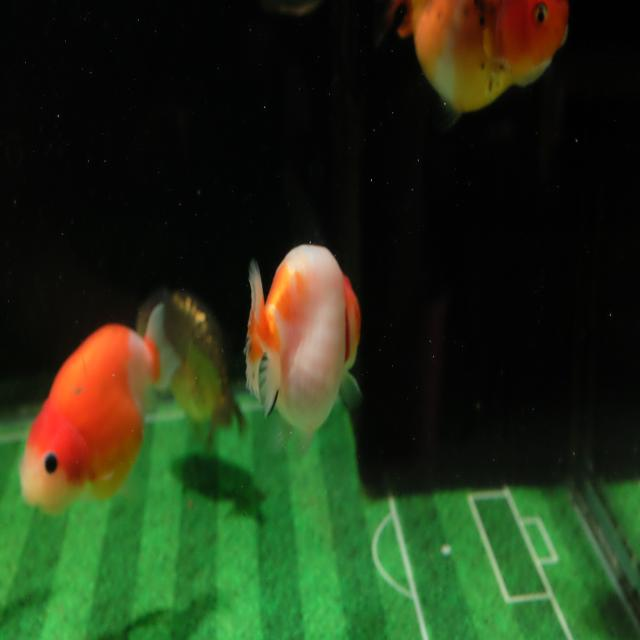Goldfish: (18, 305, 178, 523), (242, 239, 363, 466), (384, 0, 570, 130), (136, 288, 249, 457)
